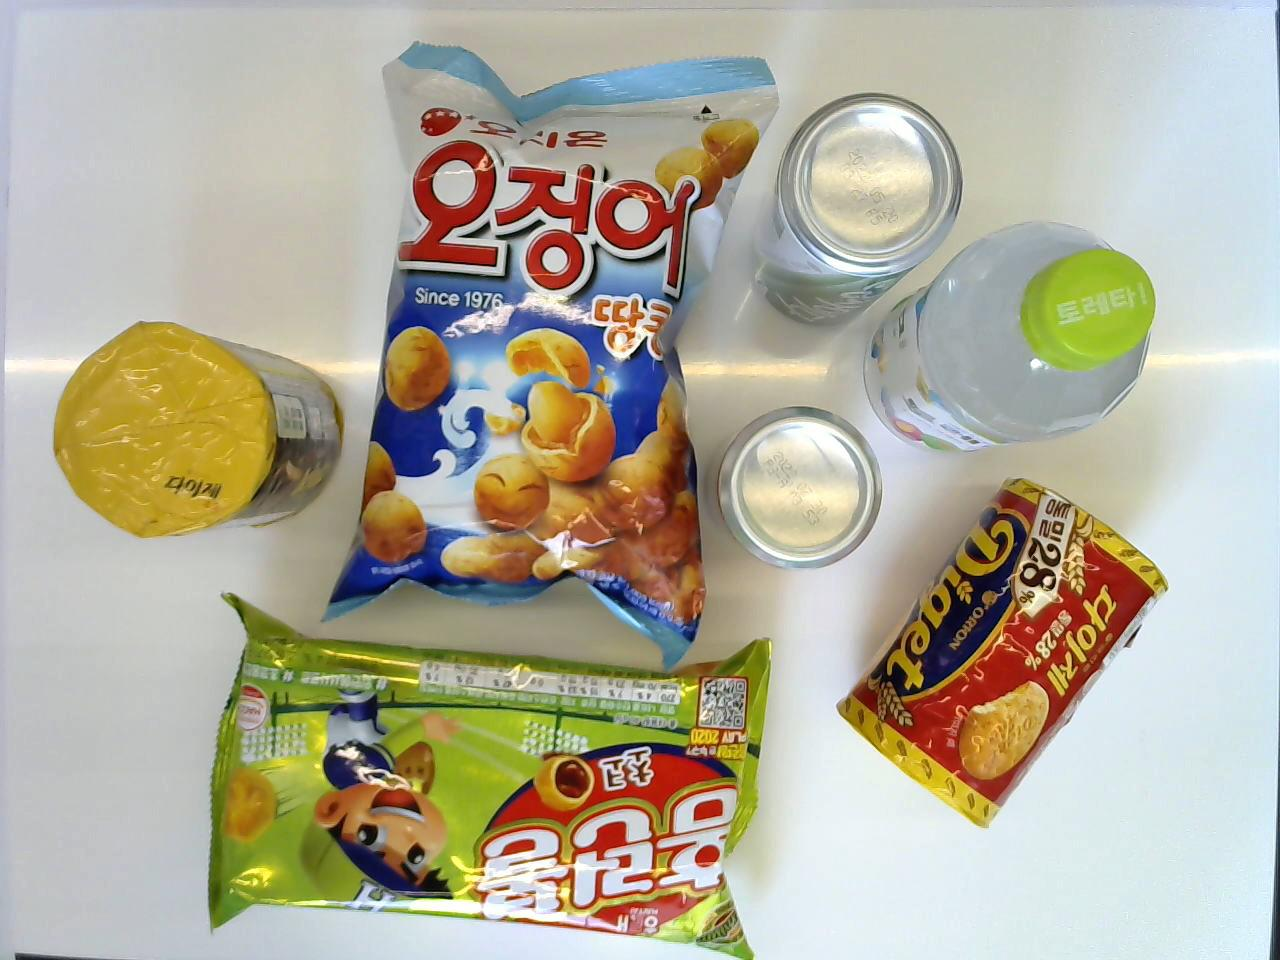cidar: (753, 89, 963, 333)
coke: (710, 408, 885, 573)
diget_choco: (49, 316, 344, 538)
diget_ori: (837, 472, 1170, 836)
homerunball: (210, 593, 770, 955)
squid_peanut: (323, 39, 770, 667)
toreta: (864, 226, 1156, 463)
